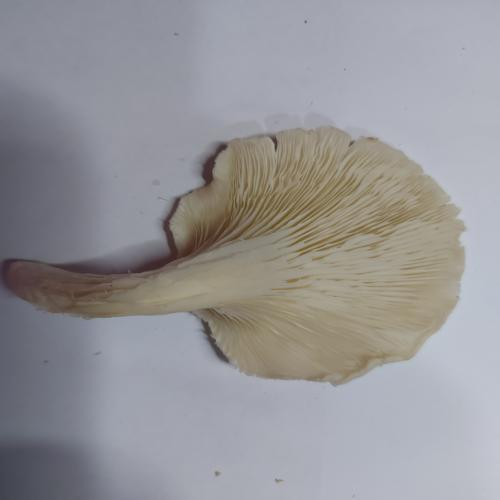Oyster Mushroom: (3, 125, 468, 387)
